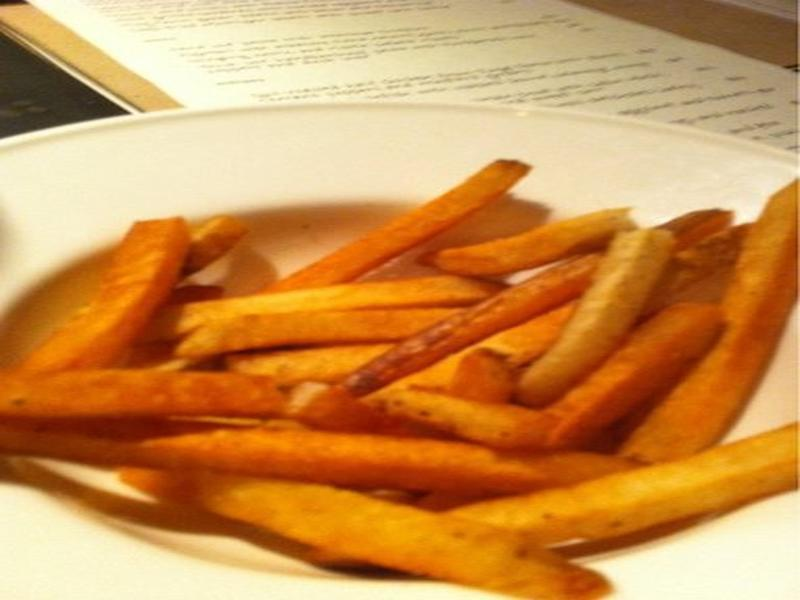french_fries: (18, 155, 795, 598)
